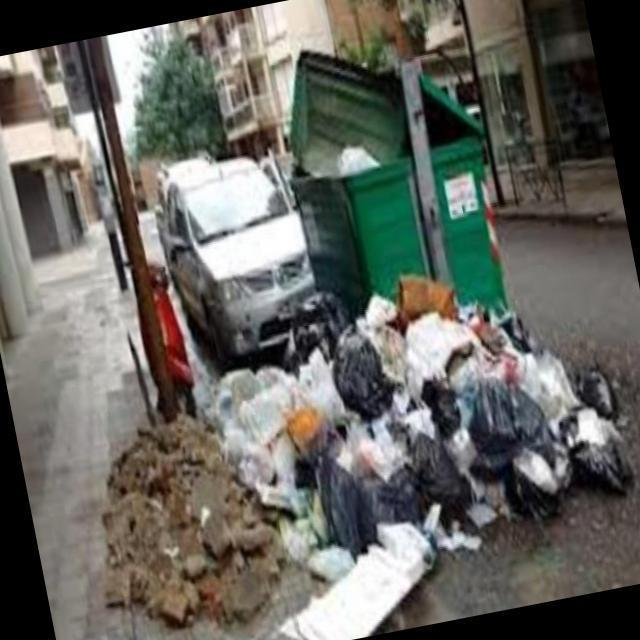garbage: (188, 224, 640, 640), (291, 115, 396, 203)
